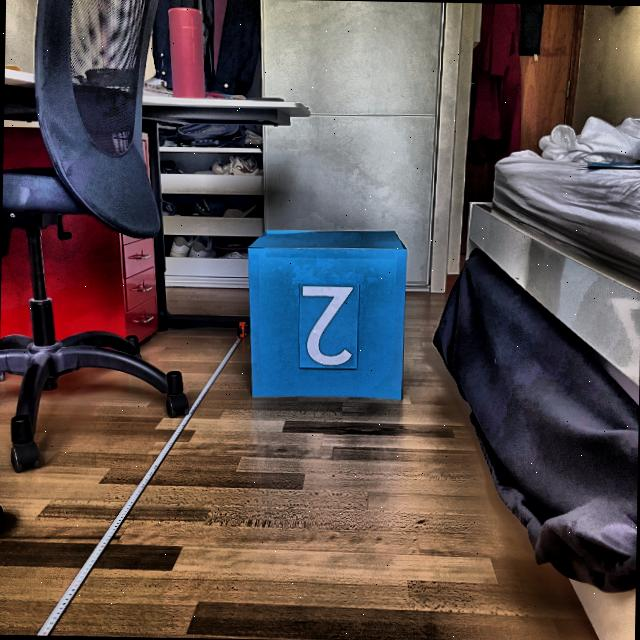blue box: (246, 226, 407, 400)
two: (300, 283, 356, 366)
